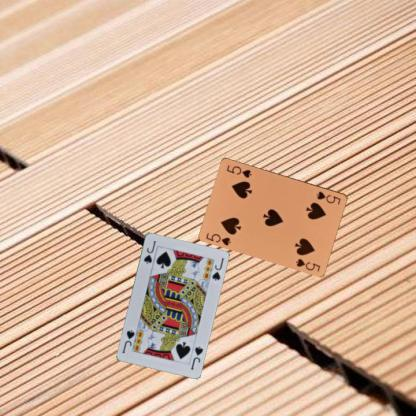5s: (204, 230, 233, 247), (314, 189, 342, 206)
Js: (188, 343, 204, 371), (141, 238, 157, 265)
